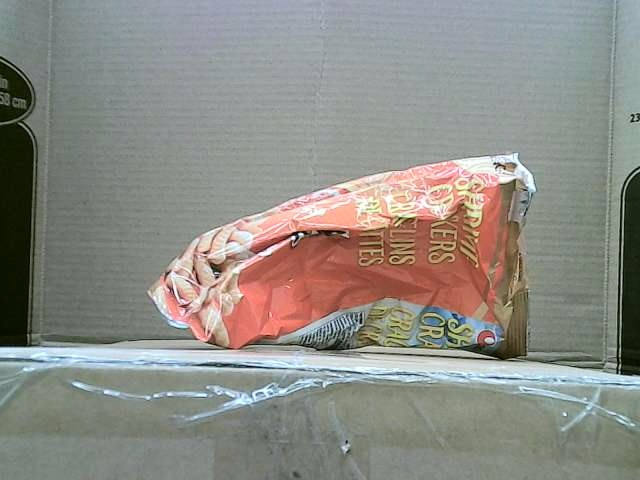Chips: (147, 153, 537, 359)
